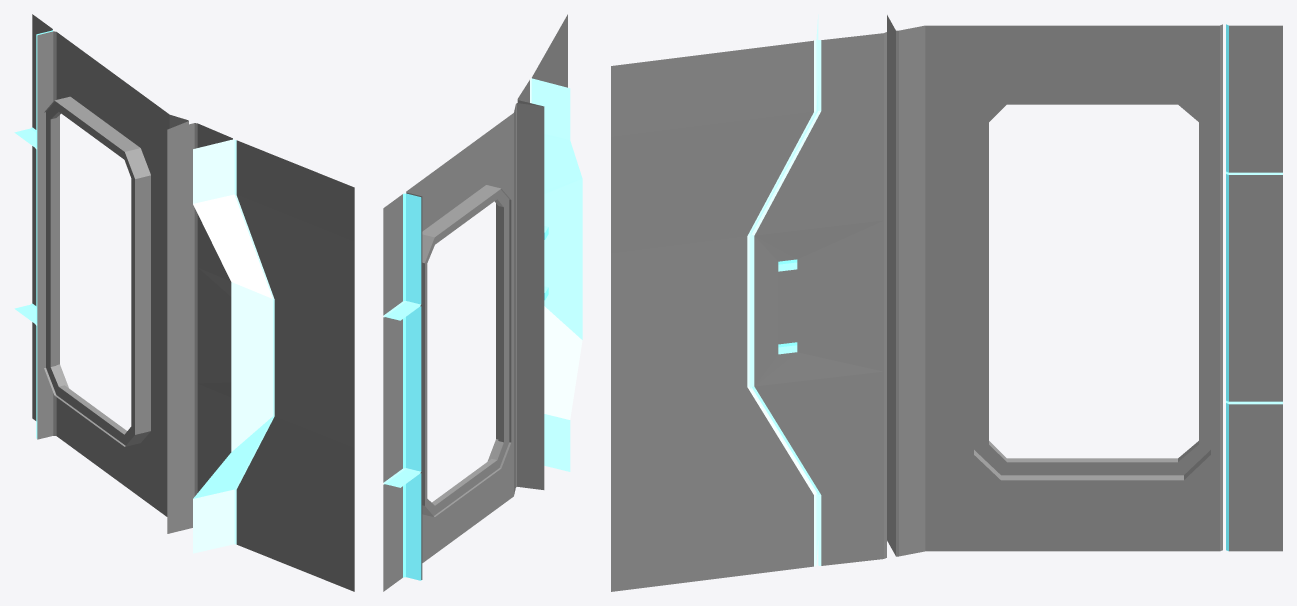
Rendered from Tutorial_Wall.fbx.
The picture shows the model from 3 angles, left to right: view 1: azimuth 30°, elevation 25°; view 2: azimuth 150°, elevation 25°; view 3: azimuth 270°, elevation 25°; orthographic projection. The views are drawn at different scales.
Parts seen in each view (by area): view 1: wall.001; view 2: wall.001; view 3: wall.001.
Part boxes in pixels (left/top/right/bottom): wall.001: left=14, top=14, right=354, bottom=591; wall.001: left=383, top=14, right=582, bottom=591; wall.001: left=611, top=14, right=1282, bottom=591.
Bounding box in the file's own units: 1.28 × 6.04 × 7.
